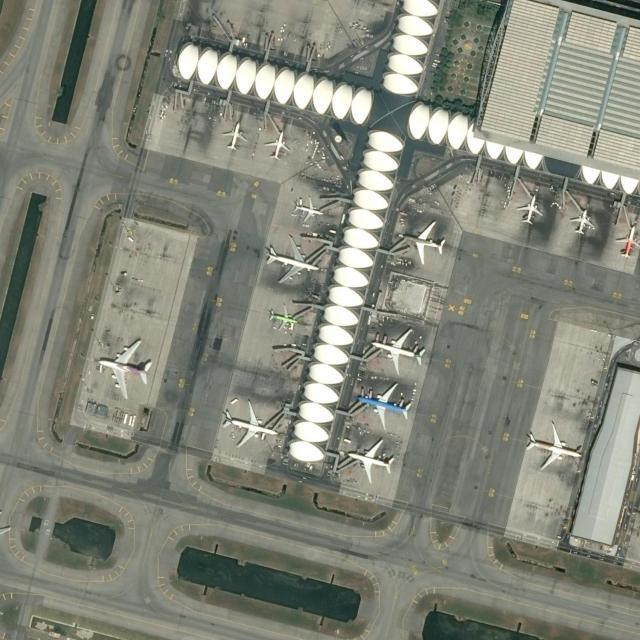Aircraft: (95, 339, 151, 398), (221, 398, 277, 448), (526, 421, 582, 471), (370, 325, 424, 375), (264, 235, 318, 283), (357, 382, 411, 430), (347, 436, 395, 482), (401, 220, 445, 264), (515, 193, 541, 225), (268, 302, 296, 331), (615, 225, 639, 258), (221, 122, 247, 150), (294, 197, 322, 223), (265, 129, 289, 159), (570, 208, 594, 235)
